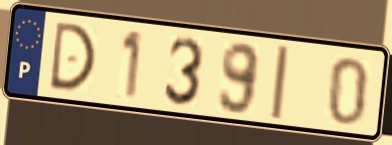0: (327, 54, 373, 127)
1: (119, 28, 143, 101)
3: (162, 34, 206, 108)
9: (216, 40, 262, 116)
D: (46, 19, 98, 93)
I: (268, 43, 291, 122)
